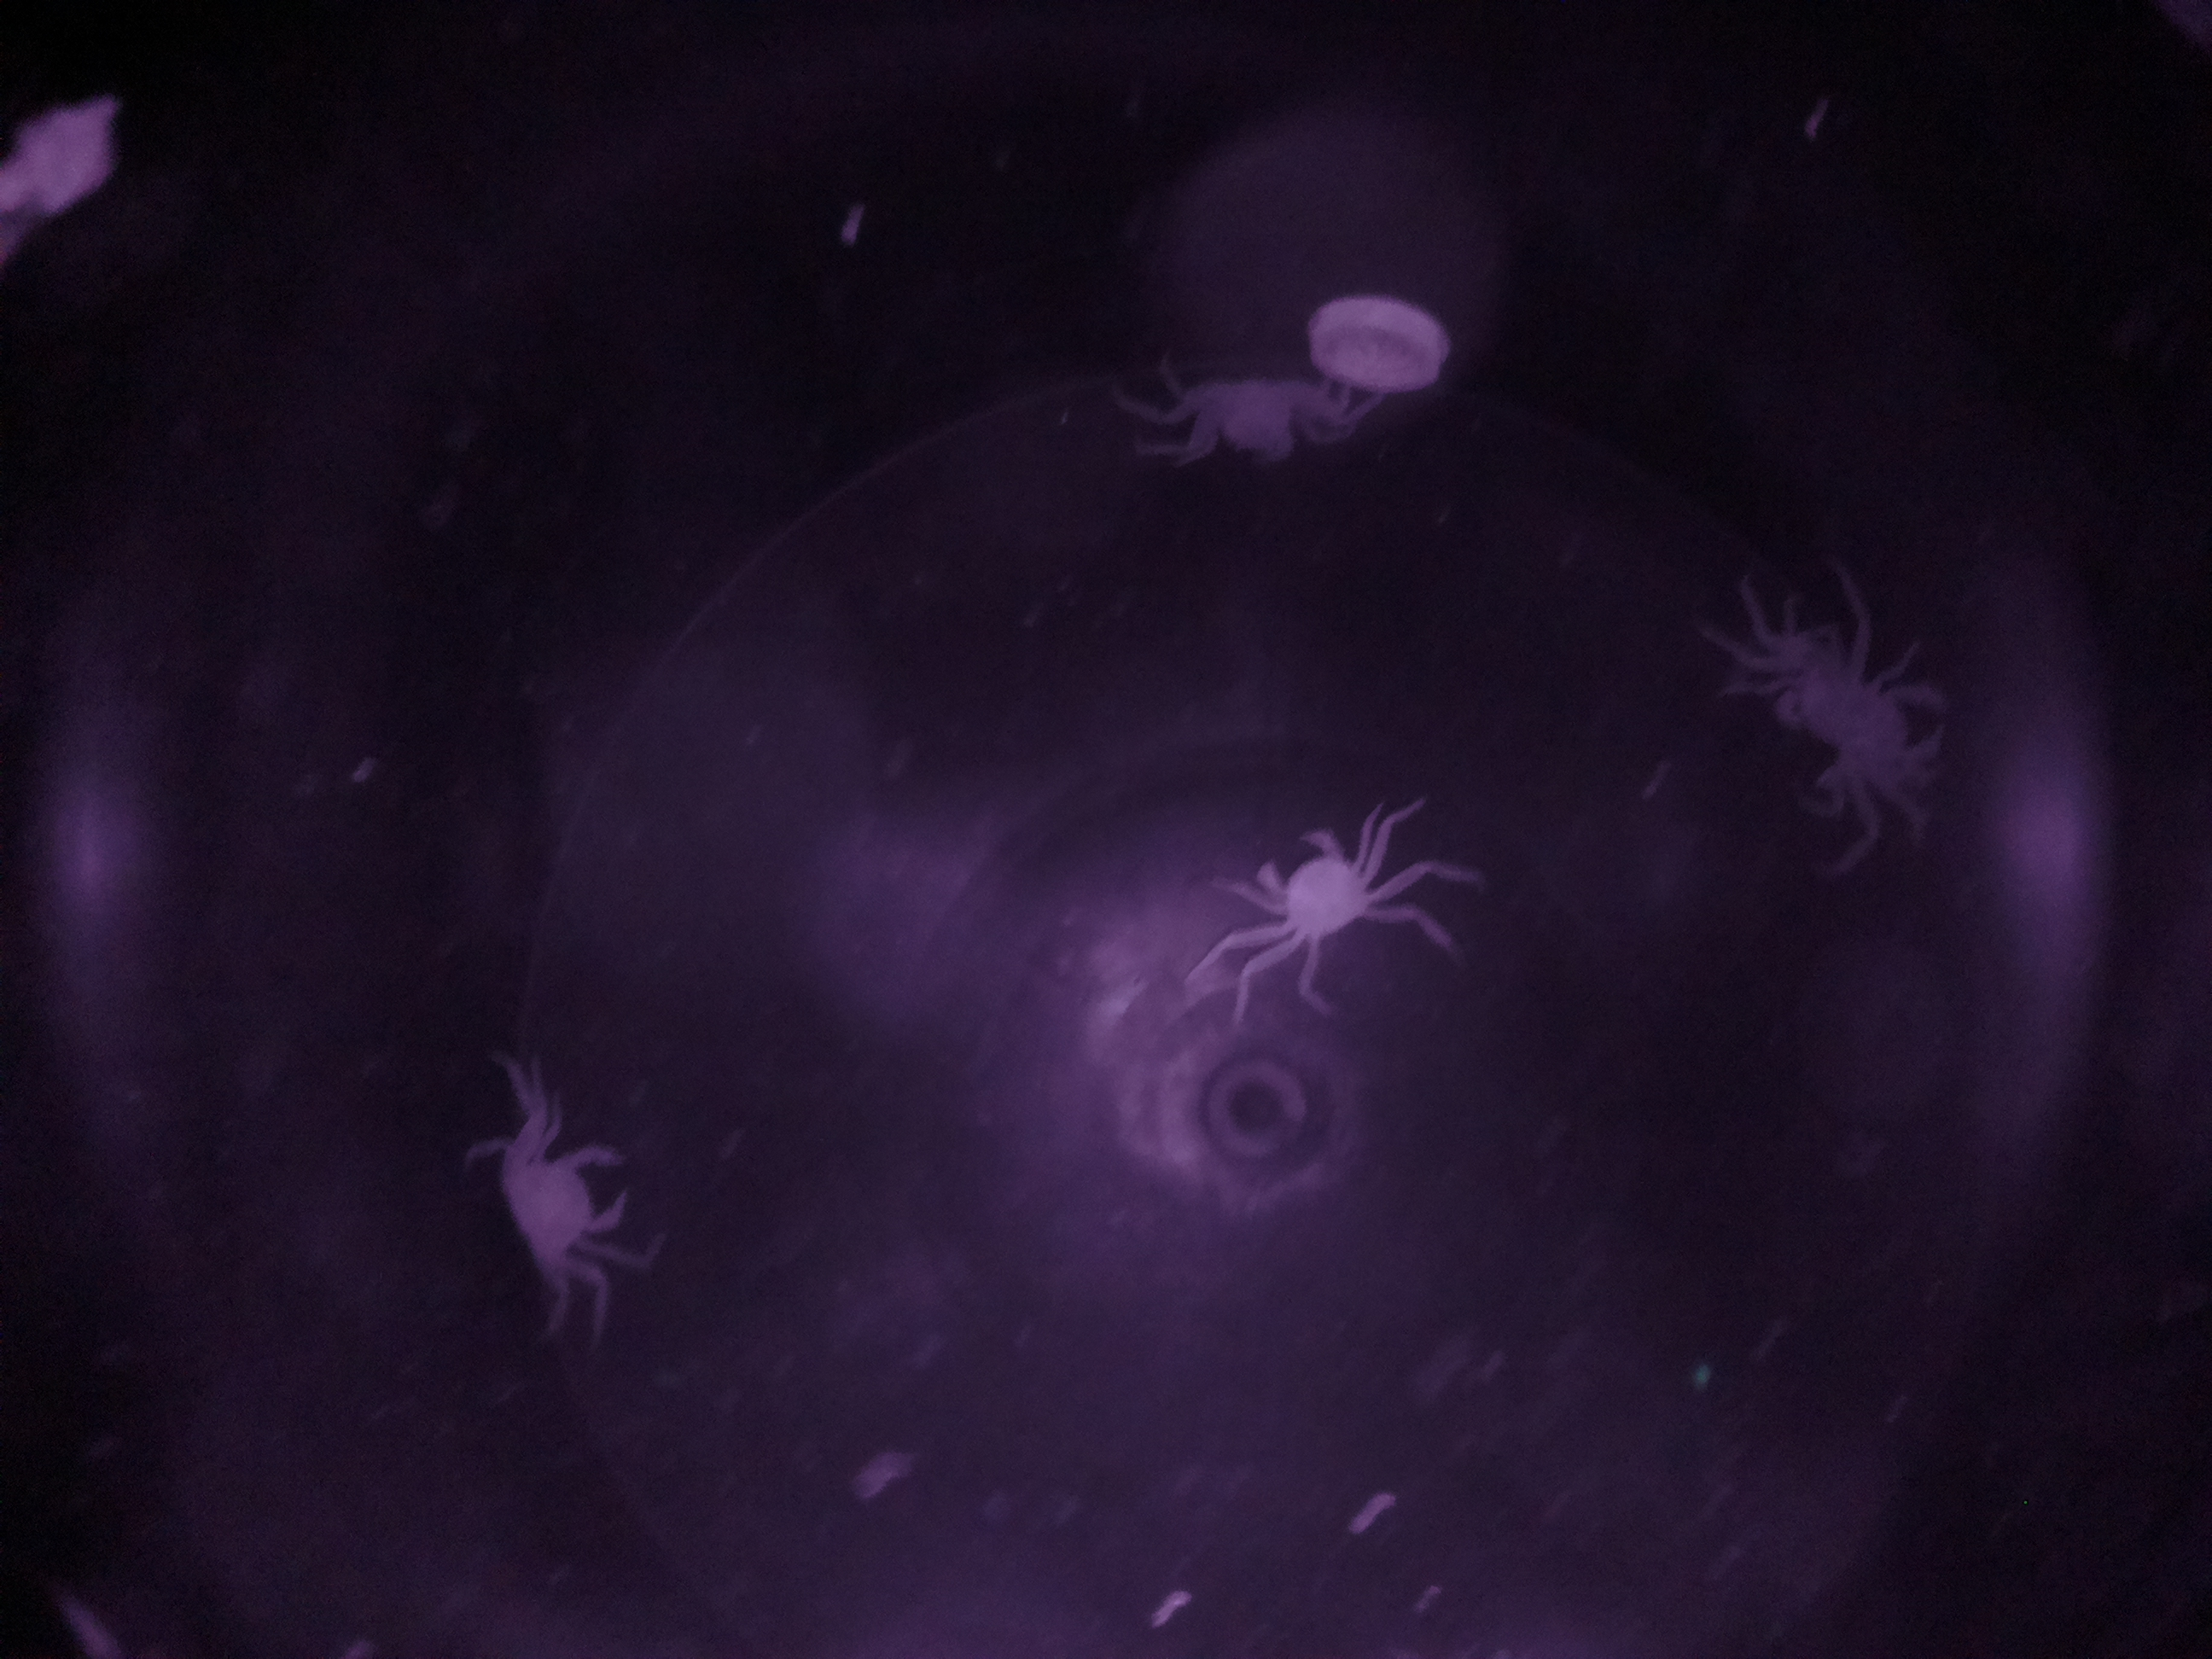Crab: (1223, 805, 1406, 972), (500, 1107, 651, 1298)
